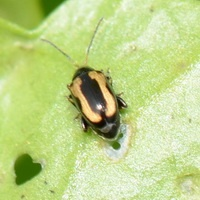insect: (41, 39, 126, 140)
